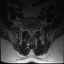CCS_normal: (30, 28, 33, 38)
LFS_normal: (35, 26, 37, 34)
LLS_normal: (33, 28, 35, 36)
RFS_normal: (26, 26, 28, 33)
RLS_normal: (28, 27, 30, 36)
